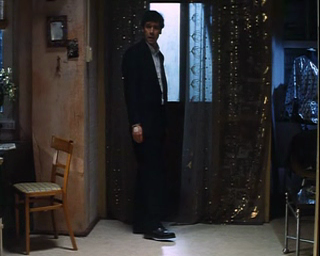face: (141, 20, 161, 44)
ls: (1, 1, 320, 256)
person: (121, 9, 176, 240)
